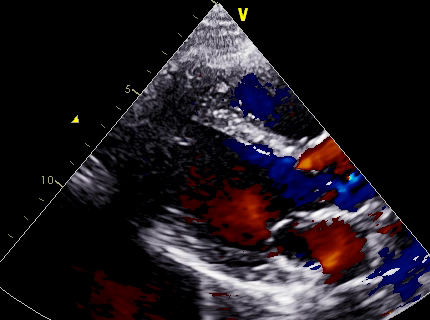AR: (213, 158, 337, 221)
